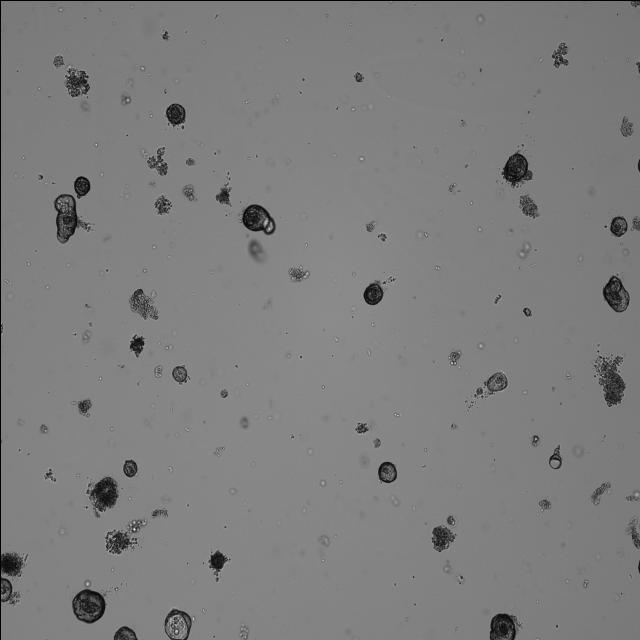alive: (599, 271, 631, 317), (67, 589, 107, 625), (51, 190, 77, 243), (240, 199, 276, 237), (486, 610, 518, 640), (160, 610, 192, 640), (161, 100, 188, 128), (484, 368, 509, 394), (361, 277, 383, 306), (606, 214, 628, 238), (376, 460, 398, 484), (72, 172, 90, 198), (112, 623, 138, 640), (0, 575, 14, 603), (171, 362, 188, 384), (122, 456, 138, 478)
dead: (592, 351, 628, 406), (80, 475, 120, 517), (496, 149, 534, 189), (124, 284, 160, 322), (140, 140, 173, 176), (0, 542, 32, 576), (101, 526, 132, 556), (65, 64, 91, 98), (428, 522, 455, 552), (148, 188, 175, 218), (206, 547, 230, 577), (548, 40, 570, 68), (212, 182, 234, 208), (126, 332, 148, 356), (285, 262, 309, 284), (353, 420, 369, 436)
